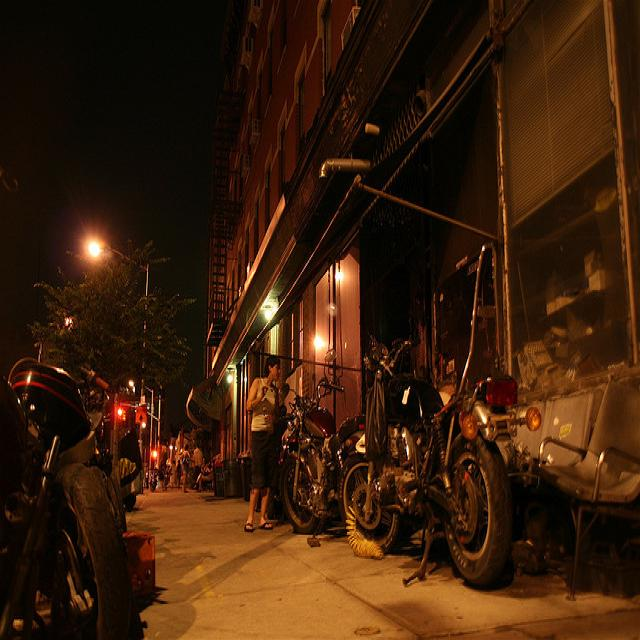Motorbike: (351, 340, 512, 622), (0, 315, 132, 640), (293, 376, 360, 565)
People: (229, 335, 308, 545)
